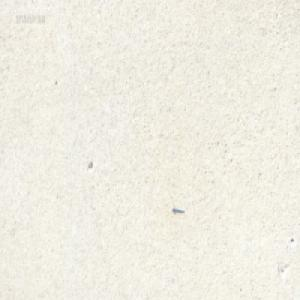Nail: (171, 204, 184, 213)
